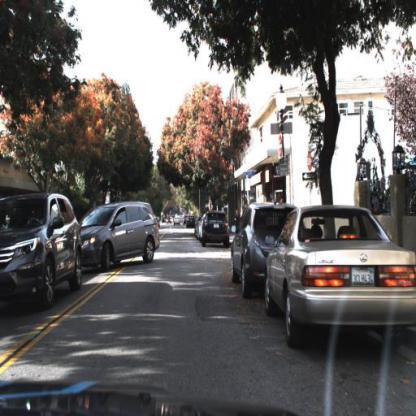car: (265, 200, 416, 349), (1, 182, 84, 313), (76, 196, 162, 277), (230, 203, 299, 297), (229, 195, 267, 303), (6, 225, 35, 280), (198, 209, 234, 249)
pedestrian: (233, 208, 244, 237)
